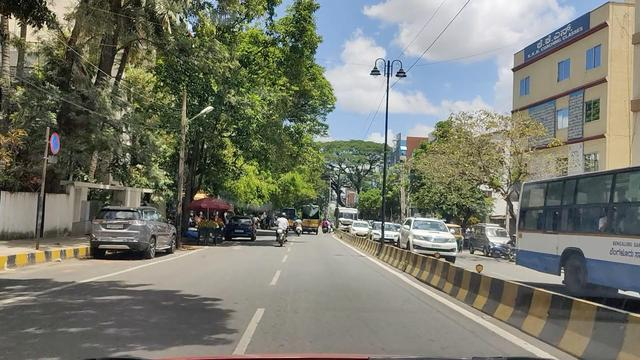LMV: (95, 210, 158, 251), (273, 207, 292, 249)
